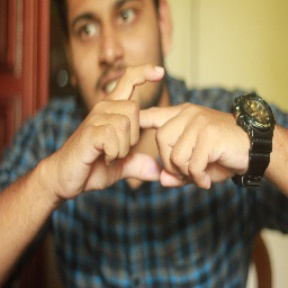E: (90, 64, 197, 190)
